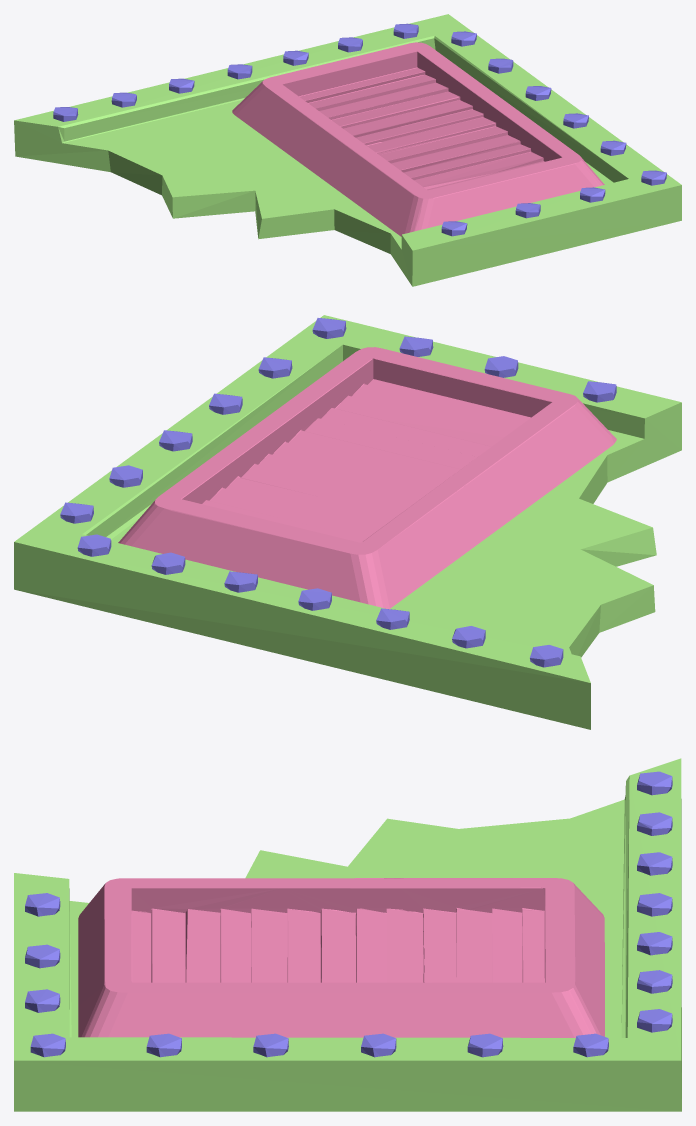
Rendered from piece_1_low.fbx.
3 views of the same model, one above another, from view 1: azimuth 30°, elevation 25°; view 2: azimuth 150°, elevation 25°; view 3: azimuth 270°, elevation 25° (orthographic). The views are drawn at different scales.
Visible parts, largest first — view 1: pCube2; view 2: pCube2; view 3: pCube2.
Part boxes in pixels (bbox=[...]): pCube2: bbox=[14, 14, 681, 286]; pCube2: bbox=[14, 315, 681, 729]; pCube2: bbox=[14, 758, 681, 1111].
Bounding box in the file's own units: 8.96 × 1.04 × 8.35.
